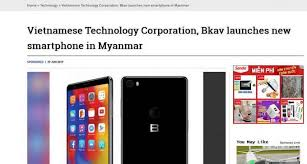bphone: (118, 73, 191, 164)
